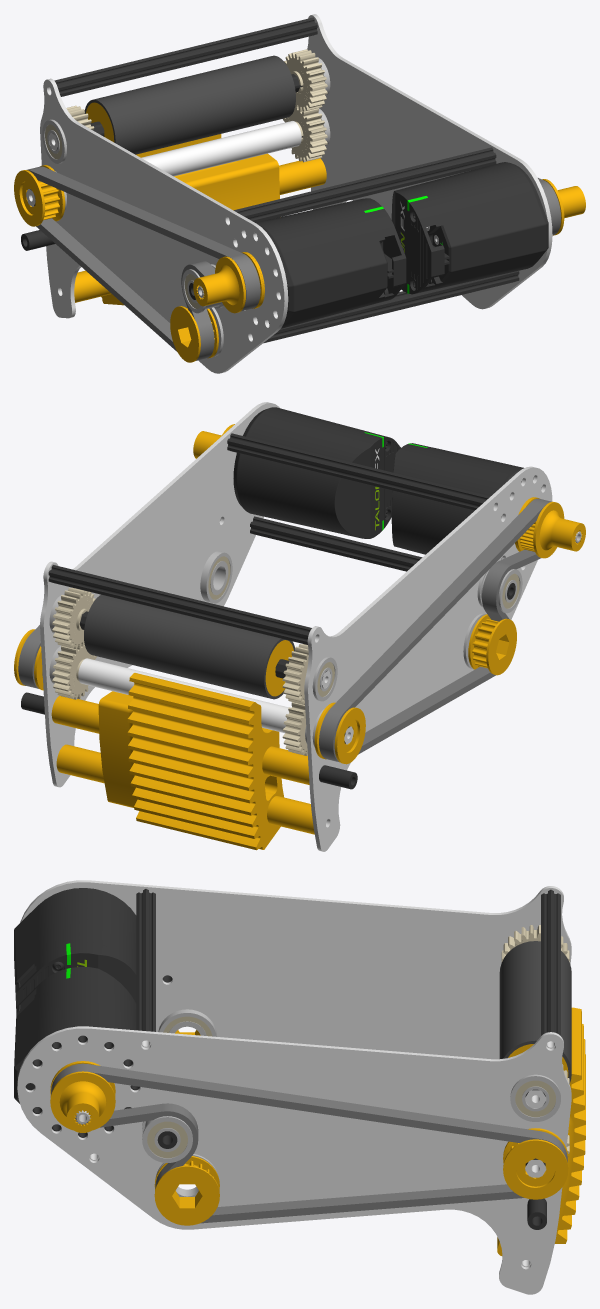
3 views of the same model, one above another, from view 1: azimuth 30°, elevation 25°; view 2: azimuth 150°, elevation 25°; view 3: azimuth 270°, elevation 25° (orthographic). The views are drawn at different scales.
Parts seen in each view (by area): view 1: Mirrored Hood Plate, Kraken X60 Brushless Motor (×2), Hood Plate, 3/8" Hex Lite (6.5" L) (×3), Part 3 (×2), Part 8, Spur gear (150 teeth), Kraken X60 Back Cap (WCP) (×2), PTFE Tube, 24t Aluminum Spur Gear (20 DP, 3/8" Hex Bore) (×2), 18t Custom HTD 5mm Pulley (0.5" Wide, *0.505" Hex Bore) (×2), 18t Custom HTD 5mm Pulley (0.5" Wide, *0.1" Hex Bore) (×2) (+6 smaller); view 2: Spur gear (150 teeth), Mirrored Hood Plate, Kraken X60 Brushless Motor (×2), Hood Plate, 3/8" Hex Lite (6.5" L) (×3), Part 3 (×2), Part 8, 24t Aluminum Spur Gear (20 DP, 3/8" Hex Bore) (×4), 1" 0.375 Hex Spacer (×4), 18t Custom HTD 5mm Pulley (0.5" Wide, *0.505" Hex Bore) (×2), PTFE Tube, 18t Custom HTD 5mm Pulley (0.5" Wide, *0.38" Hex Bore) (×2) (+7 smaller); view 3: Hood Plate, Mirrored Hood Plate, Part 3 (×2), Kraken X60 Brushless Motor (×2), 3/8" Hex Lite (6.5" L) (×2), 18t Custom HTD 5mm Pulley (0.5" Wide, *0.505" Hex Bore) (×2), Spur gear (150 teeth), 18t Custom HTD 5mm Pulley (0.5" Wide, *0.38" Hex Bore), 18t Custom HTD 5mm Pulley (0.5" Wide, *0.1" Hex Bore), 0.375" ID Bearing (0.875" OD, 0.281" WD, Shielded, Flanged), 3/8" Rounded Hex (10.25mm) ID Bearing (0.875" OD, 0.281" WD,, 1/2" Rounded Hex (13.75mm) ID Bearing (1.125" OD, 0.313" WD, (+3 smaller).
Part boxes in pixels (x1,y1,x2,y2): Mirrored Hood Plate: (40,78,288,373); Kraken X60 Brushless Motor (×2): (197,162,548,328); Hood Plate: (307,14,552,309); 3/8" Hex Lite (6.5" L) (×3): (50,17,519,343); Part 3 (×2): (84,55,561,235); Part 8: (27,166,260,360); Spur gear (150 teeth): (101,134,279,305); Kraken X60 Back Cap (WCP) (×2): (372,199,449,302); PTFE Tube: (141,121,301,176); 24t Aluminum Spur Gear (20 DP, 3/8" Hex Bore) (×2): (283,49,327,162); 18t Custom HTD 5mm Pulley (0.5" Wide, *0.505" Hex Bore) (×2): (170,252,263,362); 18t Custom HTD 5mm Pulley (0.5" Wide, *0.1" Hex Bore) (×2): (193,179,585,310); Spur gear (150 teeth): (98,673,284,850); Mirrored Hood Plate: (304,466,552,851); Kraken X60 Brushless Motor (×2): (233,407,581,559); Hood Plate: (40,402,279,787); 3/8" Hex Lite (6.5" L) (×3): (48,433,493,644); Part 3 (×2): (18,594,294,699); Part 8: (319,498,551,762); 24t Aluminum Spur Gear (20 DP, 3/8" Hex Bore) (×4): (52,587,308,755); 1" 0.375 Hex Spacer (×4): (51,695,314,834); 18t Custom HTD 5mm Pulley (0.5" Wide, *0.505" Hex Bore) (×2): (468,497,564,675); PTFE Tube: (78,658,289,733); 18t Custom HTD 5mm Pulley (0.5" Wide, *0.38" Hex Bore) (×2): (14,629,365,764); Hood Plate: (17,1026,571,1294); Mirrored Hood Plate: (20,880,571,1059); Part 3 (×2): (51,941,571,1223); Kraken X60 Brushless Motor (×2): (14,888,139,1137); 3/8" Hex Lite (6.5" L) (×2): (136,889,560,1048); 18t Custom HTD 5mm Pulley (0.5" Wide, *0.505" Hex Bore) (×2): (50,1061,219,1225); Spur gear (150 teeth): (497,1007,585,1255); 18t Custom HTD 5mm Pulley (0.5" Wide, *0.38" Hex Bore): (503,1128,568,1199); 18t Custom HTD 5mm Pulley (0.5" Wide, *0.1" Hex Bore): (50,1061,115,1132); 0.375" ID Bearing (0.875" OD, 0.281" WD, Shielded, Flanged): (142,1116,192,1162); 3/8" Rounded Hex (10.25mm) ID Bearing (0.875" OD, 0.281" WD,: (510,1074,560,1121); 1/2" Rounded Hex (13.75mm) ID Bearing (1.125" OD, 0.313" WD,: (158,1009,216,1036).
Size of the model in its own units: 0.2398 by 0.1458 by 0.2769.
